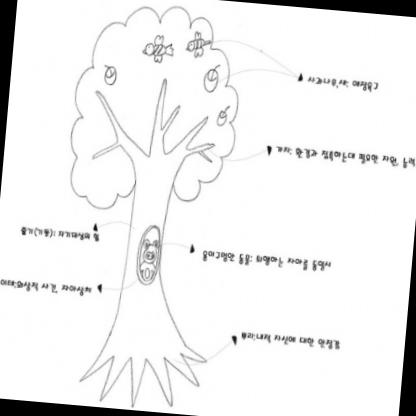apple: (200, 66, 221, 94), (100, 63, 119, 86), (216, 107, 229, 127)
bird: (138, 32, 178, 66), (183, 30, 213, 61)
branch_sharp: (89, 74, 222, 174)
crown_cloud: (62, 0, 247, 221)
root_only: (76, 323, 212, 414)
trunk_reflex: (116, 208, 180, 313)
